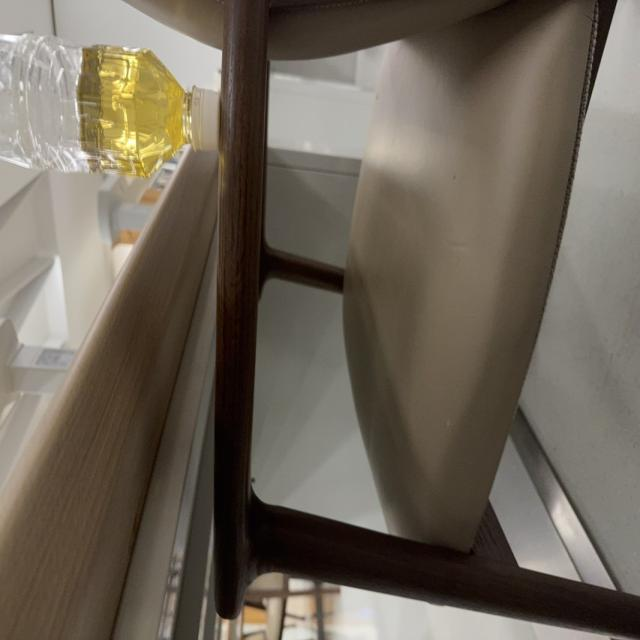low: (0, 35, 218, 177)
